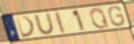1: (72, 9, 86, 32)
D: (15, 15, 37, 39)
G: (108, 5, 127, 27)
I: (54, 11, 67, 35)
Q: (89, 7, 111, 30)
U: (33, 12, 57, 36)
